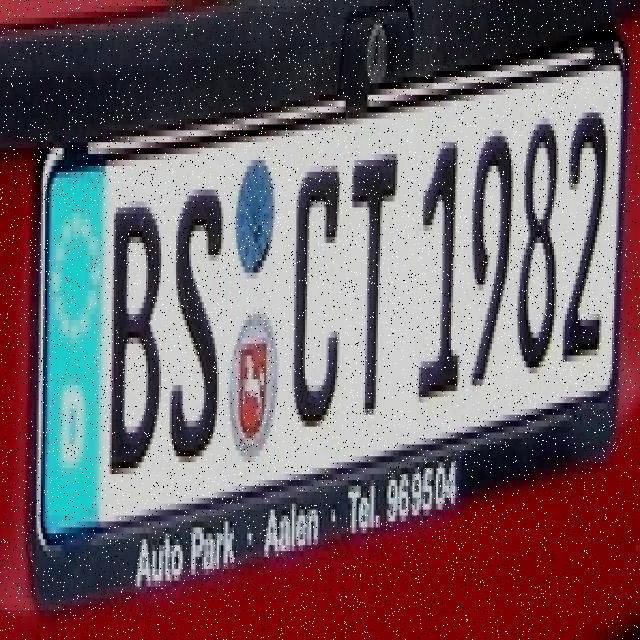licenseplate: (32, 81, 624, 598)
